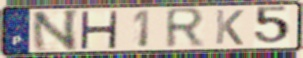1: (131, 8, 151, 50)
5: (253, 5, 293, 48)
H: (78, 10, 120, 50)
K: (213, 8, 246, 47)
N: (30, 8, 81, 53)
R: (164, 6, 208, 51)
